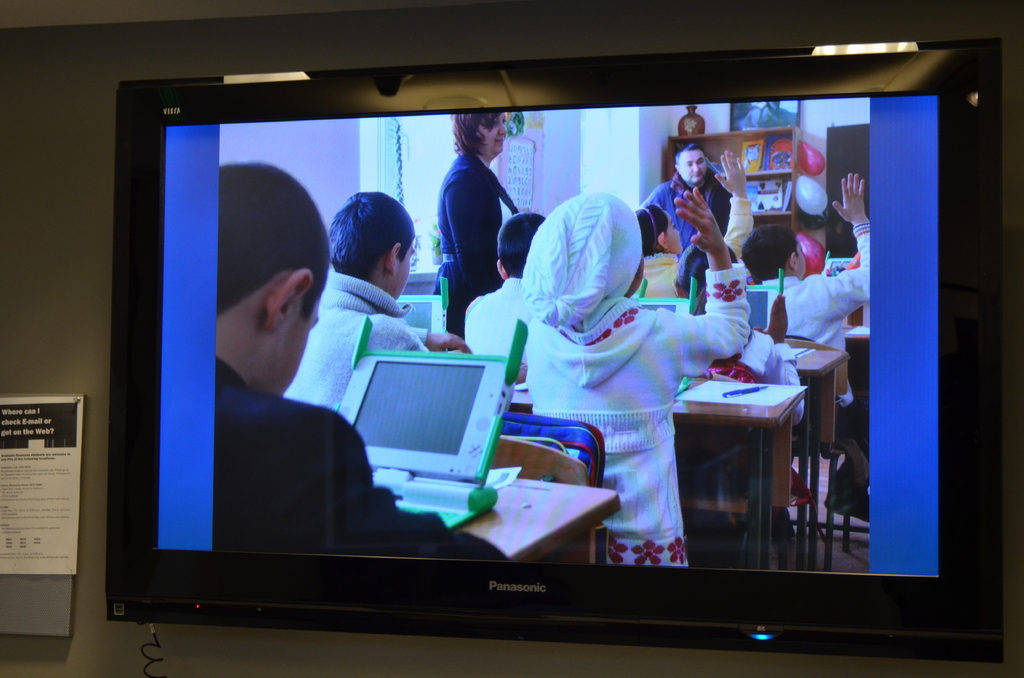Person: (212, 112, 870, 568)
